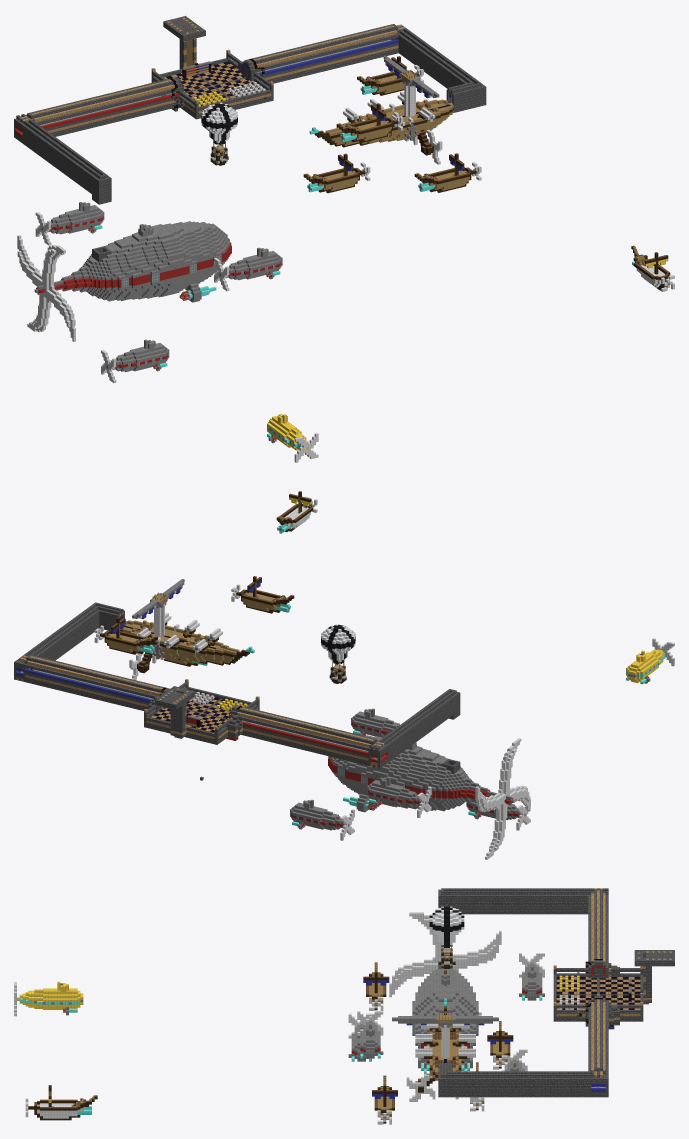
Rendered from minecraft.obj.
3 views of the same model, one above another, from view 1: azimuth 30°, elevation 25°; view 2: azimuth 150°, elevation 25°; view 3: azimuth 270°, elevation 25° (orthographic). The views are drawn at different scales.
Bounding box in the file's own units: 1790 × 780 × 2290.
